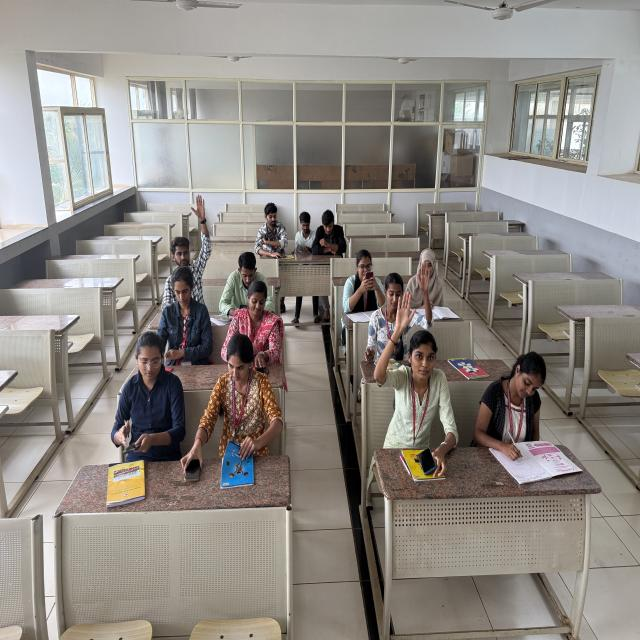Hand Rising: (374, 290, 460, 440), (146, 188, 217, 298), (373, 262, 433, 333)
Using Phone: (98, 319, 186, 459), (212, 249, 271, 328), (349, 244, 383, 310)
Writing: (477, 328, 569, 480)
